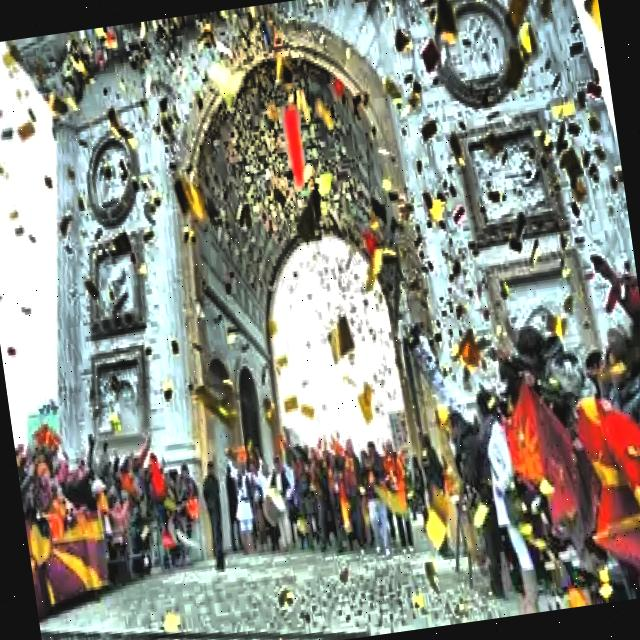triumphal arch: (3, 0, 640, 570)
